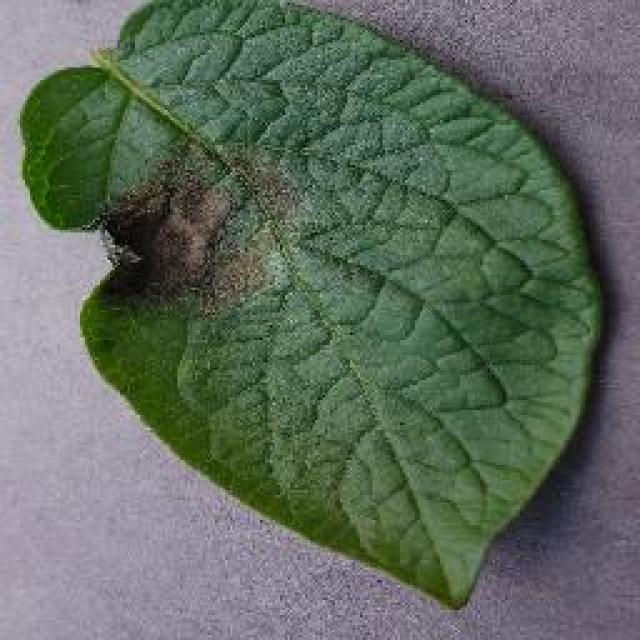Potato___Late_blight: (16, 0, 611, 614)
